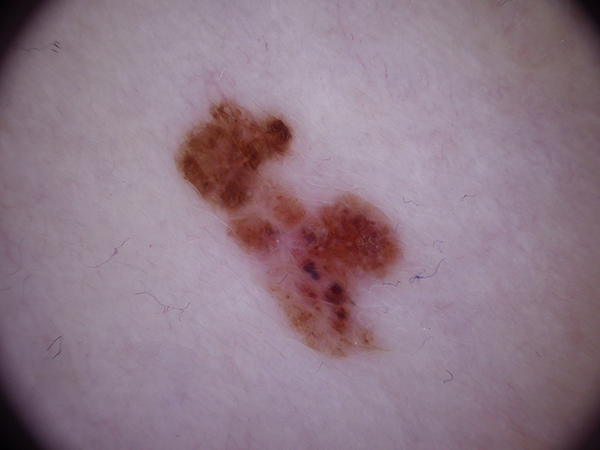Detected Lesion: (169, 86, 411, 379)
